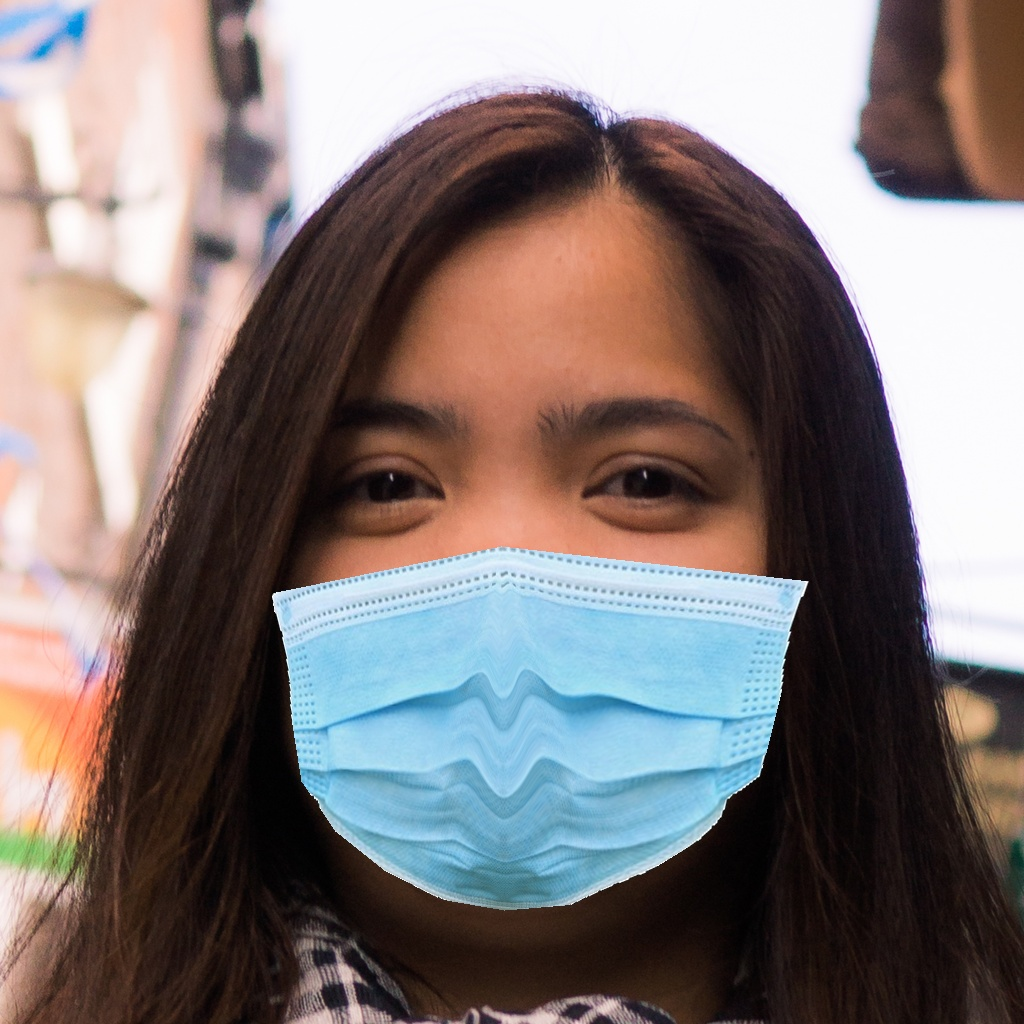with_mask: (287, 392, 784, 913)
